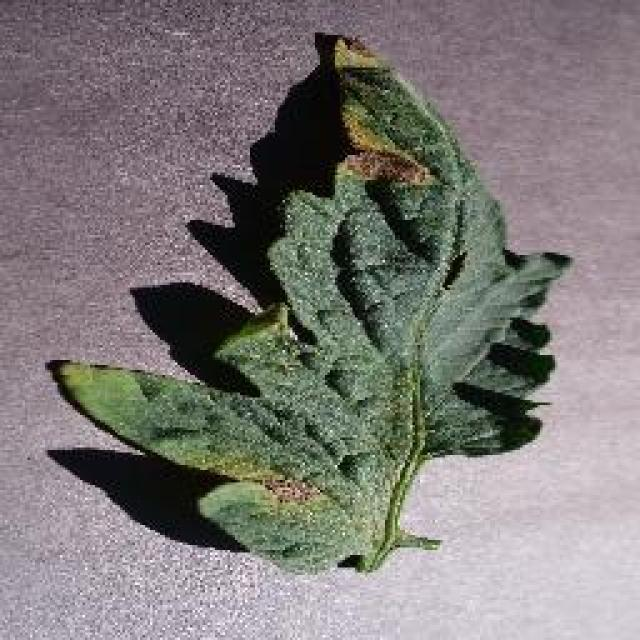Tomato Early blight leaf: (48, 15, 570, 587)
